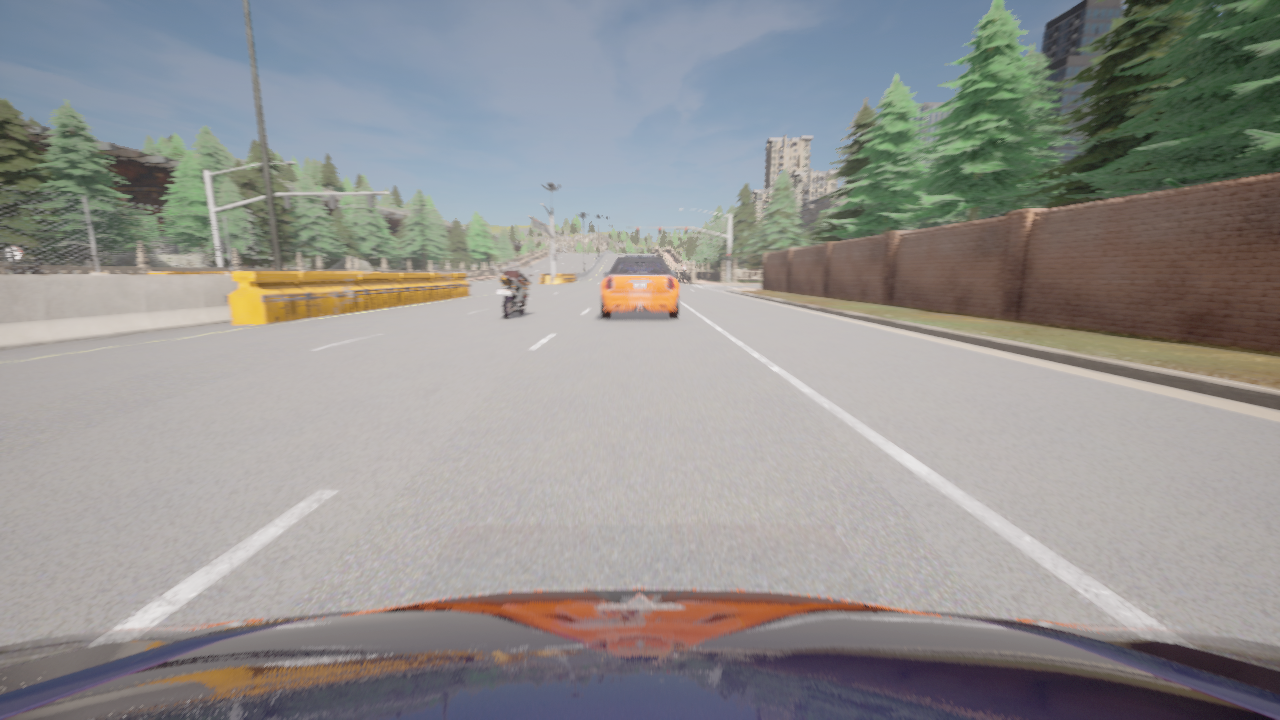cyclist: (0, 588, 1279, 719), (600, 255, 679, 318), (497, 274, 533, 319), (624, 255, 655, 256)
pedestrian: (242, 263, 247, 268), (272, 264, 274, 268), (284, 264, 285, 268)
